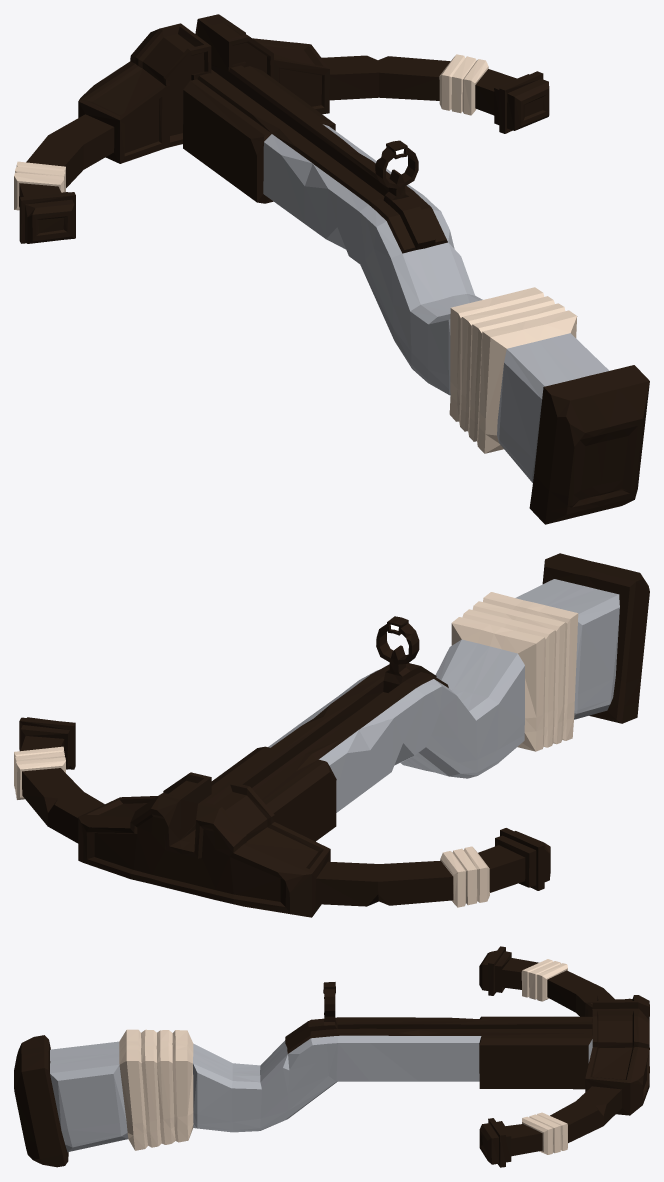
The model's file is SFFA_Weapon_Crossbow_001.fbx.
The picture shows the model from 3 angles, top to bottom: view 1: azimuth 30°, elevation 25°; view 2: azimuth 150°, elevation 25°; view 3: azimuth 270°, elevation 25°; orthographic projection. The views are drawn at different scales.
Visible parts, largest first — view 1: SFFA_Weapon_Crossbow_001; view 2: SFFA_Weapon_Crossbow_001; view 3: SFFA_Weapon_Crossbow_001.
Part boxes in pixels (<box>): SFFA_Weapon_Crossbow_001: <box>14,14,649,524</box>; SFFA_Weapon_Crossbow_001: <box>14,553,649,917</box>; SFFA_Weapon_Crossbow_001: <box>14,946,649,1167</box>.
Size of the model in its own units: 62.2 by 25.91 by 88.26.
